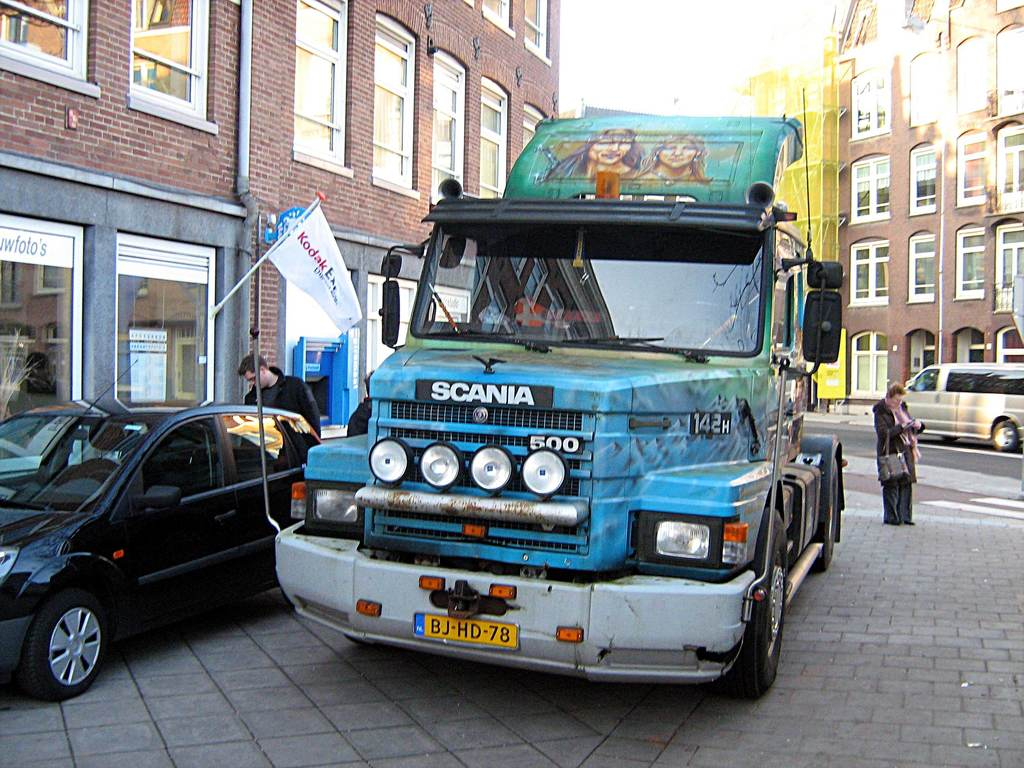Car: (0, 399, 328, 700)
